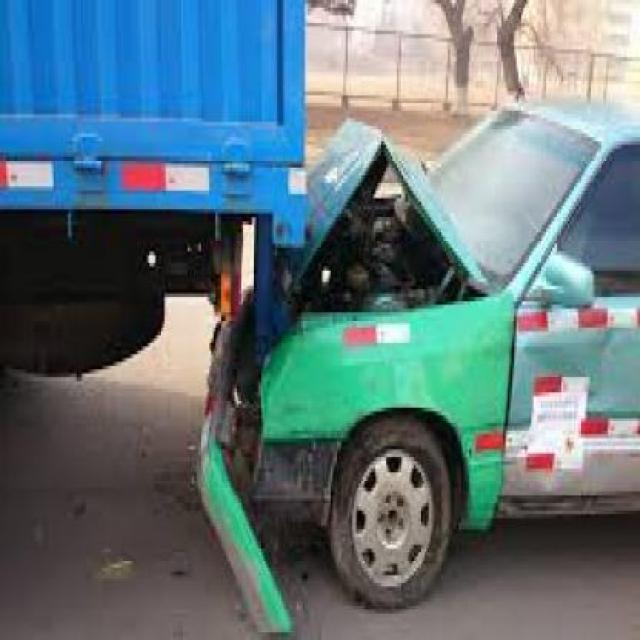accident: (148, 26, 534, 639)
